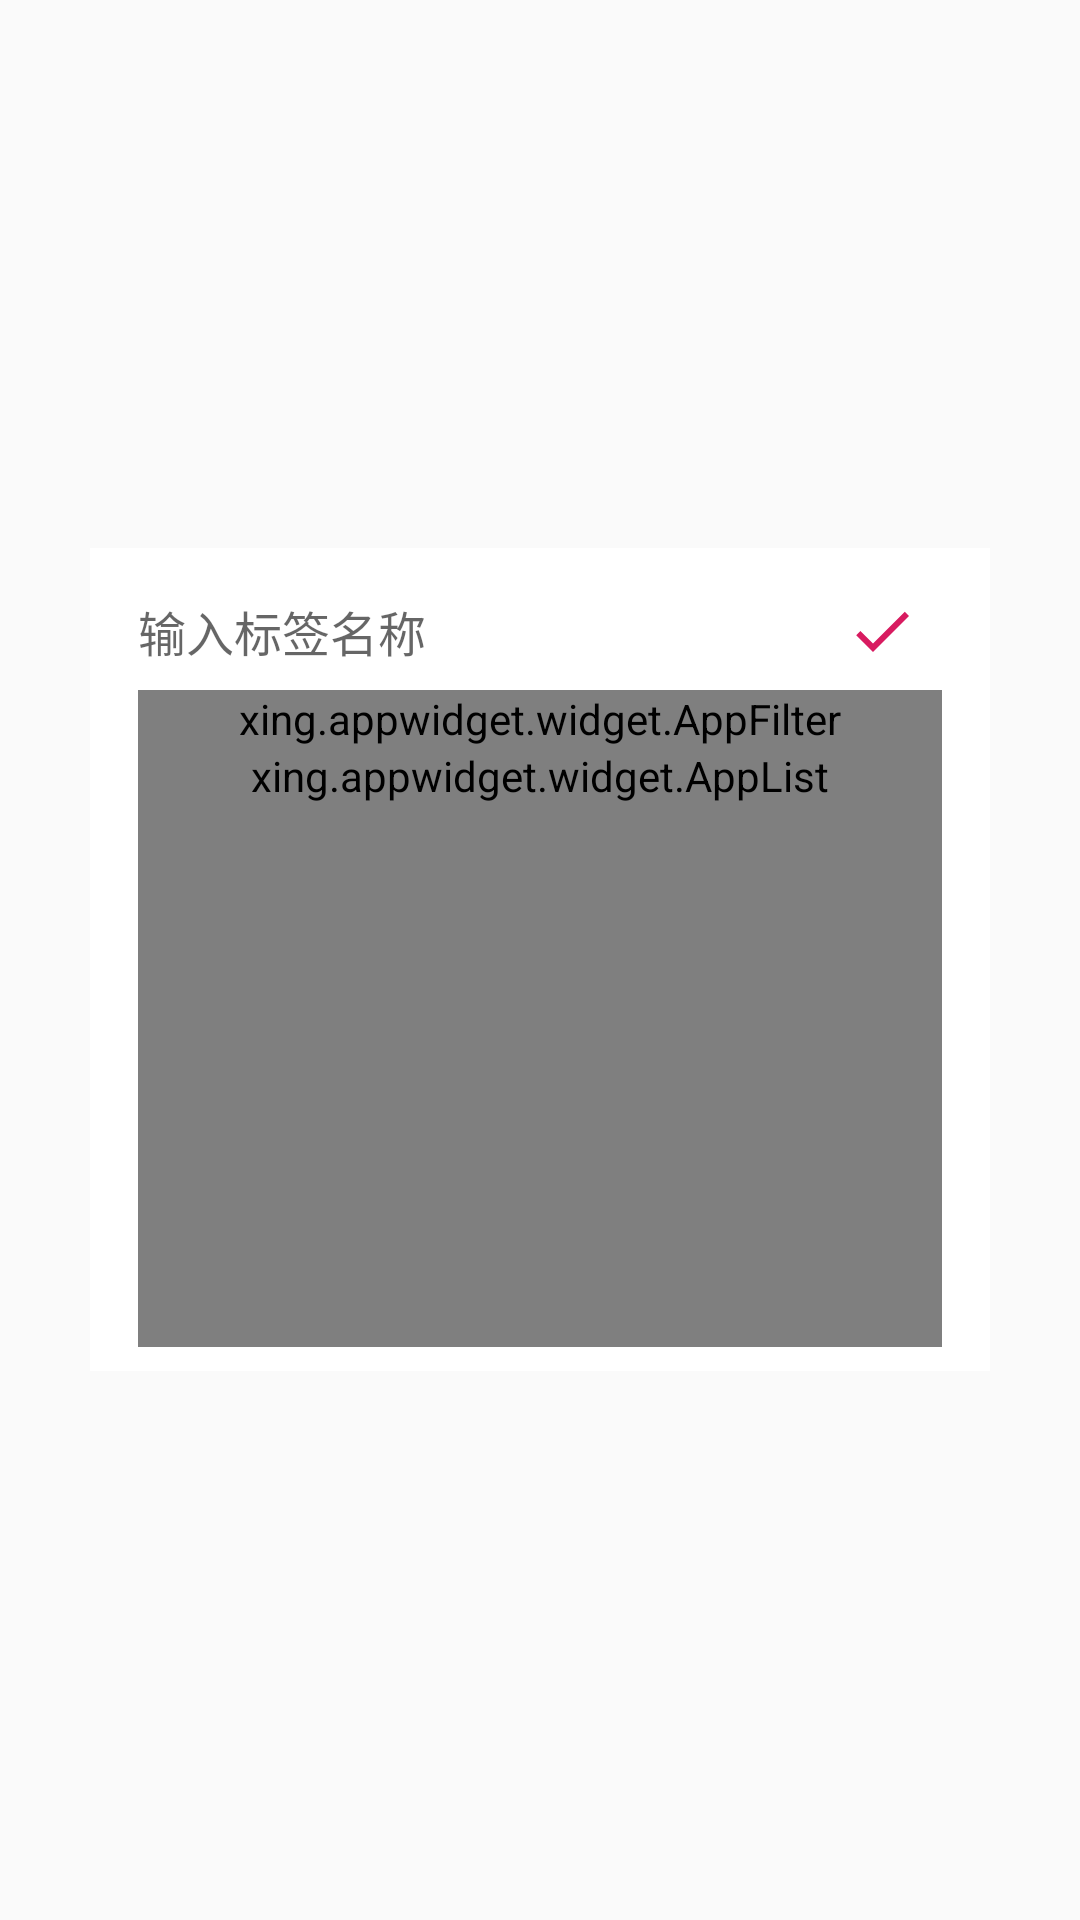

Locate icon controls on the screen. Image size 1080px×1920px, boxes as (x1, y1, x2, y2).
done: (856, 612, 909, 652)
